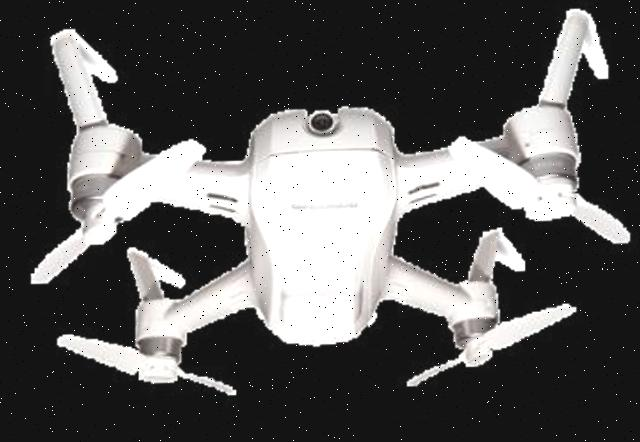drone: (0, 0, 640, 410)
